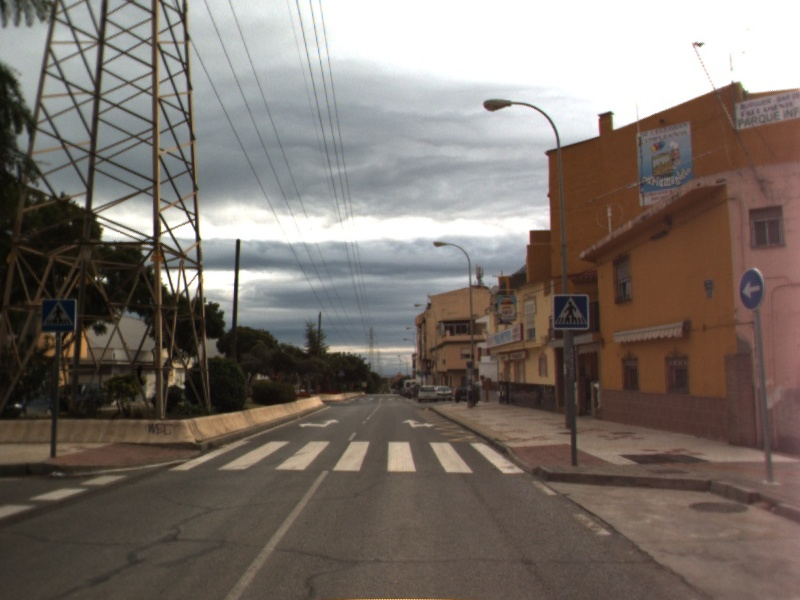STRAIGHT_LEFT: (297, 417, 342, 430)
STRAIGHT_RIGHT: (400, 417, 436, 430)
